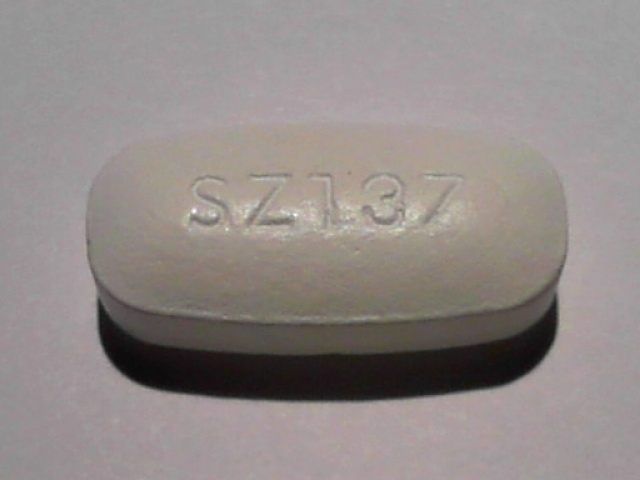1: (308, 168, 348, 237)
3: (358, 172, 411, 236)
7: (417, 170, 467, 233)
S: (186, 173, 230, 234)
Z: (242, 169, 298, 234)
